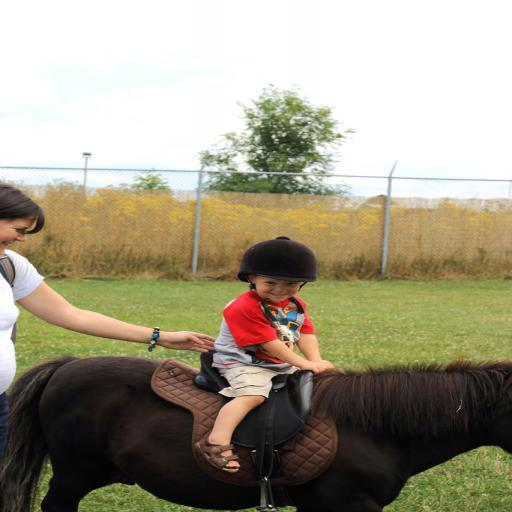horse: (0, 358, 512, 512)
